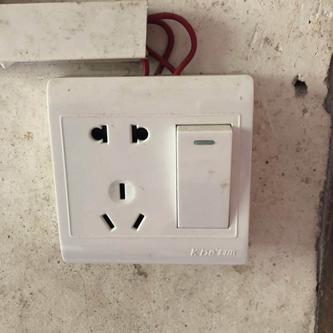switch: (167, 118, 238, 234)
